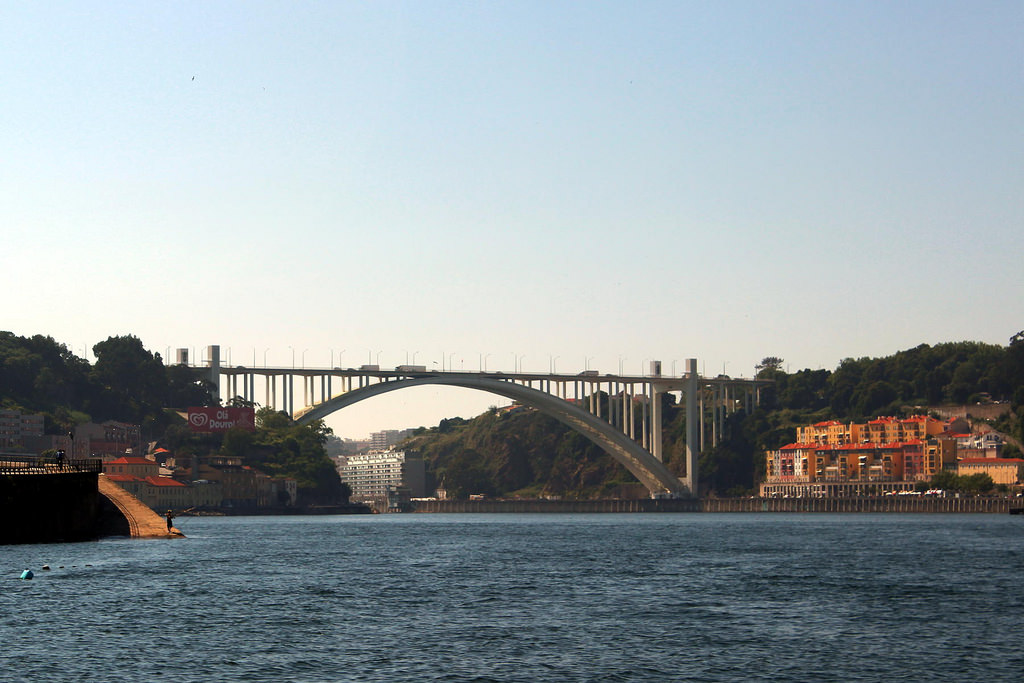arrabida: (158, 343, 770, 501)
